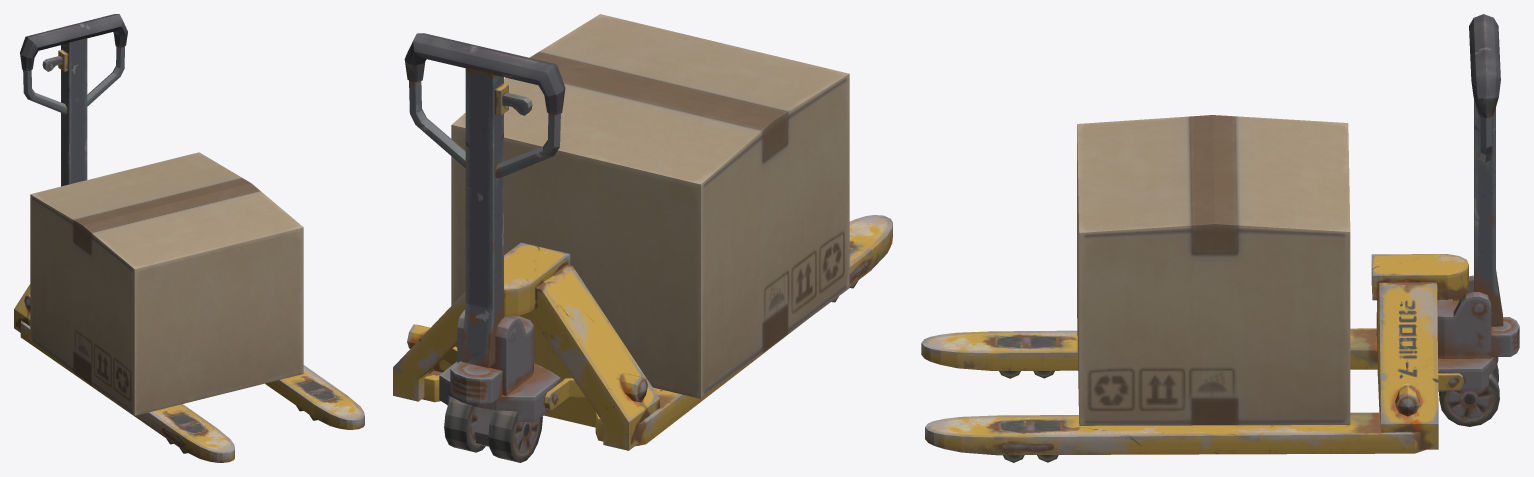
The model's file is WarehouseManager_04.obj.
The picture shows the model from 3 angles, left to right: view 1: azimuth 30°, elevation 25°; view 2: azimuth 150°, elevation 25°; view 3: azimuth 270°, elevation 25°; orthographic projection. The views are drawn at different scales.
Bounding box in the file's own units: 0.7315 × 1.06 × 1.56.
Materials: 2 (2 with a texture image).
